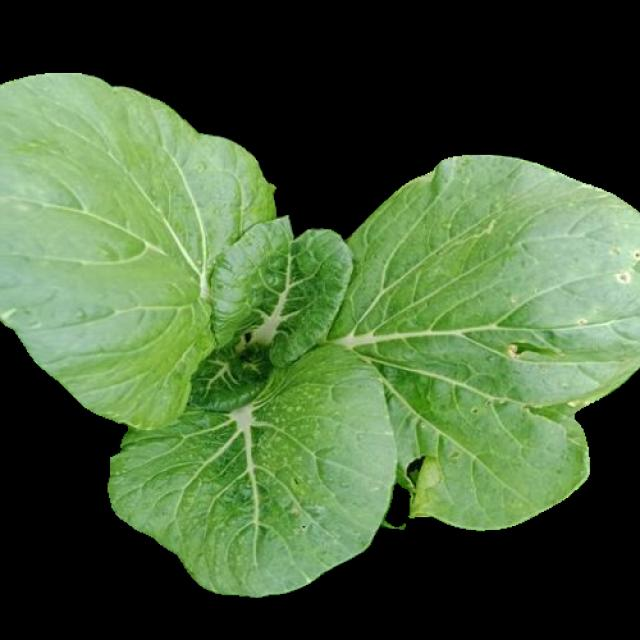mature: (1, 87, 639, 605)
unhealthy: (334, 154, 640, 526)
